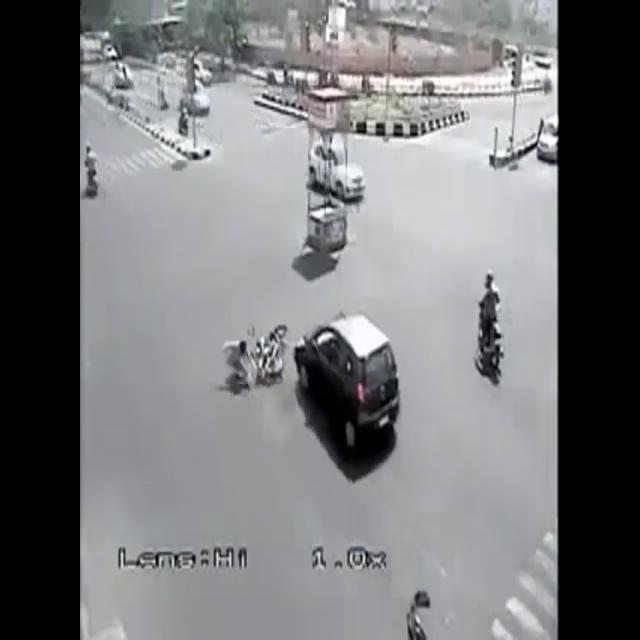accident: (225, 311, 402, 457)
non-accident: (306, 136, 366, 254), (177, 80, 210, 138), (103, 46, 135, 88)
